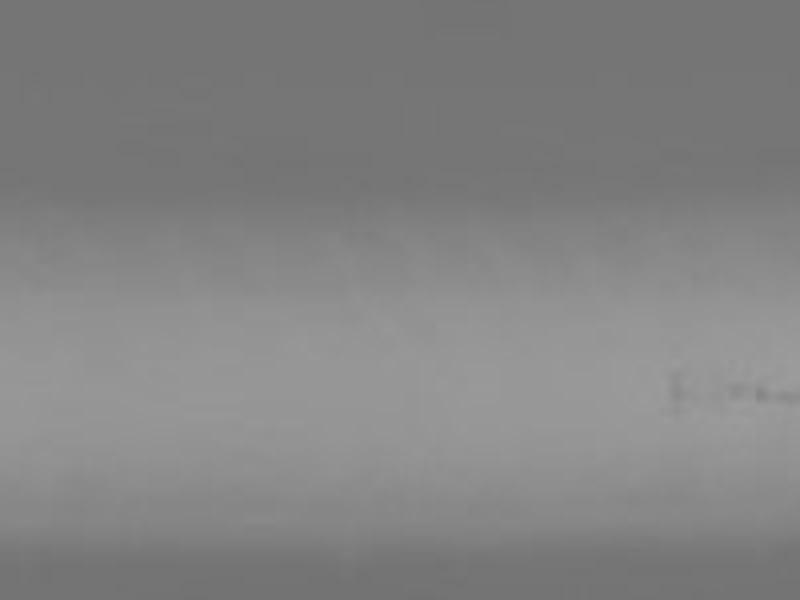defect: (670, 365, 690, 411), (723, 380, 746, 405), (774, 389, 799, 406), (753, 385, 769, 406)
